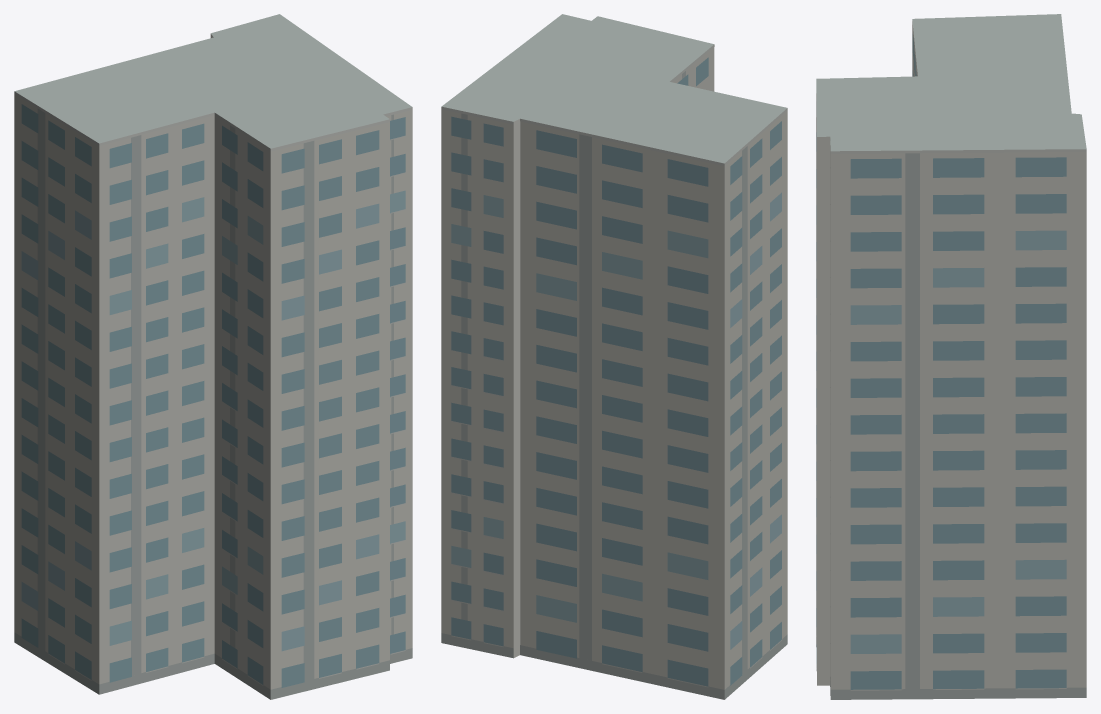
File: residential-9d7807af-3a5a-485e-ae62-ab8dd78b4390.glb
3 views of the same model, side by side, from view 1: azimuth 30°, elevation 25°; view 2: azimuth 150°, elevation 25°; view 3: azimuth 270°, elevation 25° (orthographic). The views are drawn at different scales.
Parts seen in each view (by area): view 1: residential-9d7807af-3a5a-485e-ae62-ab8dd78b4390.tmp; view 2: residential-9d7807af-3a5a-485e-ae62-ab8dd78b4390.tmp; view 3: residential-9d7807af-3a5a-485e-ae62-ab8dd78b4390.tmp.
Boxes of the visible parts, box(x1,y1,x2,y2) form: residential-9d7807af-3a5a-485e-ae62-ab8dd78b4390.tmp: box(14, 14, 412, 699); residential-9d7807af-3a5a-485e-ae62-ab8dd78b4390.tmp: box(441, 14, 787, 699); residential-9d7807af-3a5a-485e-ae62-ab8dd78b4390.tmp: box(816, 14, 1086, 699).
Size of the model in its own units: 26.82 by 50 by 22.34.
